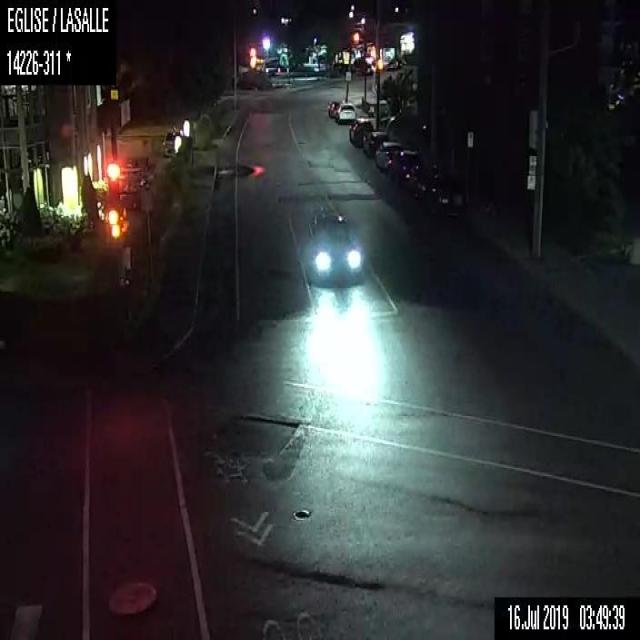vehicle: (303, 206, 360, 286), (415, 169, 464, 219), (373, 140, 402, 172), (347, 115, 373, 148), (361, 128, 387, 158), (161, 126, 182, 155), (336, 100, 355, 124), (328, 99, 340, 118)
